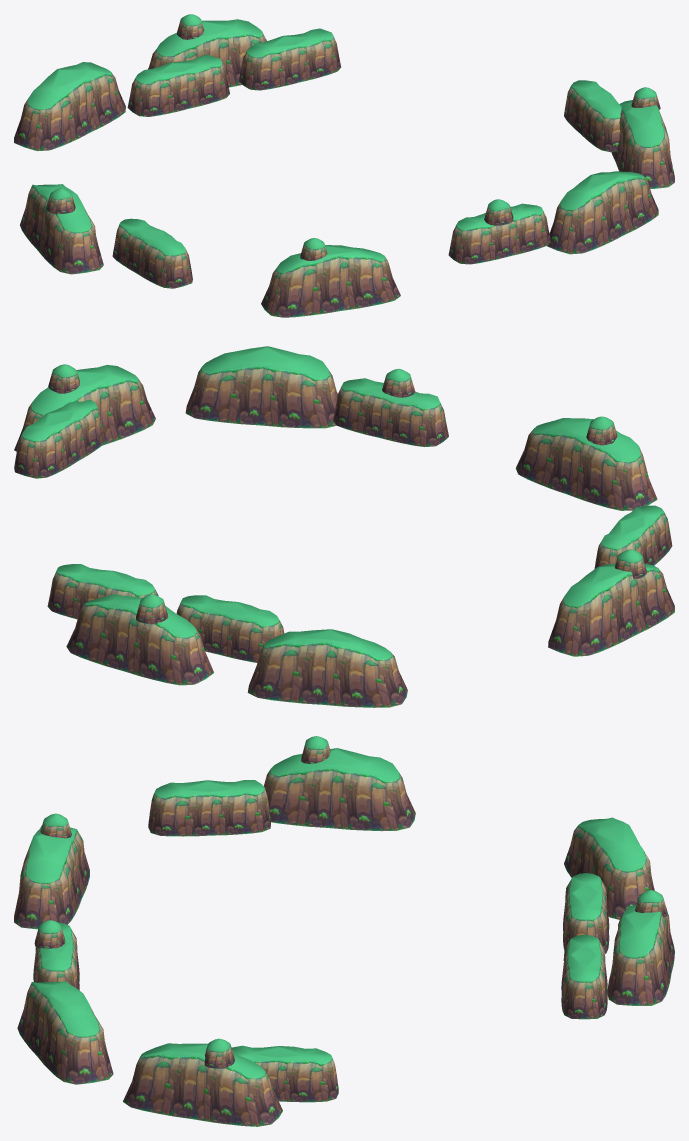
File: CBS_Ground_rock_BIG2.FBX
3 renders of one model, top to bottom at view 1: azimuth 30°, elevation 25°; view 2: azimuth 150°, elevation 25°; view 3: azimuth 270°, elevation 25°, orthographic. The views are drawn at different scales.
Visible parts, largest first — view 1: CBS_Ground_rock_BIG2; view 2: CBS_Ground_rock_BIG2; view 3: CBS_Ground_rock_BIG2.
Boxes of the visible parts, box(x1,y1,x2,y2) form: CBS_Ground_rock_BIG2: box(14, 14, 674, 317); CBS_Ground_rock_BIG2: box(14, 346, 674, 707); CBS_Ground_rock_BIG2: box(14, 736, 674, 1126).
Size of the model in its own units: 15270 by 1609 by 13000.
